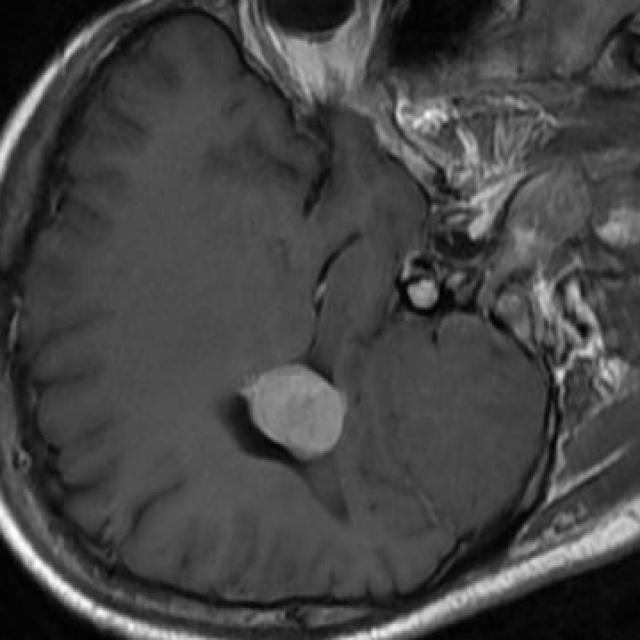meningioma: (241, 364, 346, 458)
